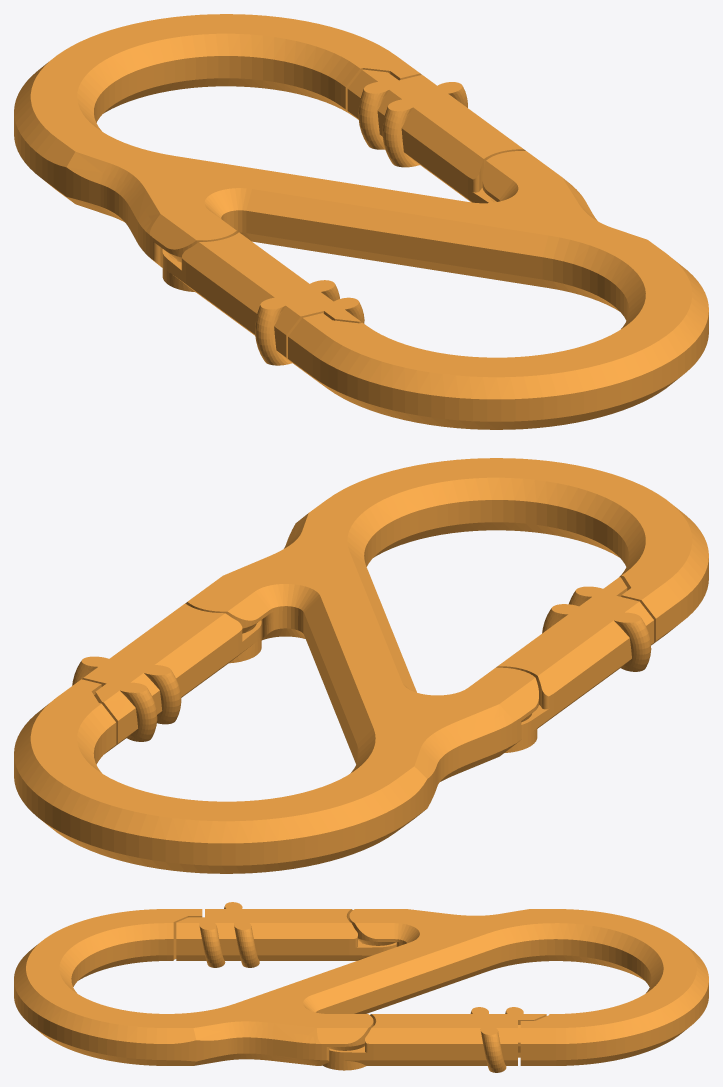
Rendered from carabiner.glb.
3 renders of one model, top to bottom at view 1: azimuth 30°, elevation 25°; view 2: azimuth 150°, elevation 25°; view 3: azimuth 270°, elevation 25°, orthographic. The views are drawn at different scales.
Visible parts, largest first — view 1: Medium - Dual Carabiner.stl_fil1; view 2: Medium - Dual Carabiner.stl_fil1; view 3: Medium - Dual Carabiner.stl_fil1.
Boxes of the visible parts, left/top/right/bottom form: Medium - Dual Carabiner.stl_fil1: left=14, top=14, right=708, bottom=429; Medium - Dual Carabiner.stl_fil1: left=14, top=458, right=708, bottom=873; Medium - Dual Carabiner.stl_fil1: left=14, top=902, right=708, bottom=1072.
Size of the model in its own units: 0.0489 by 0.00626 by 0.104.
